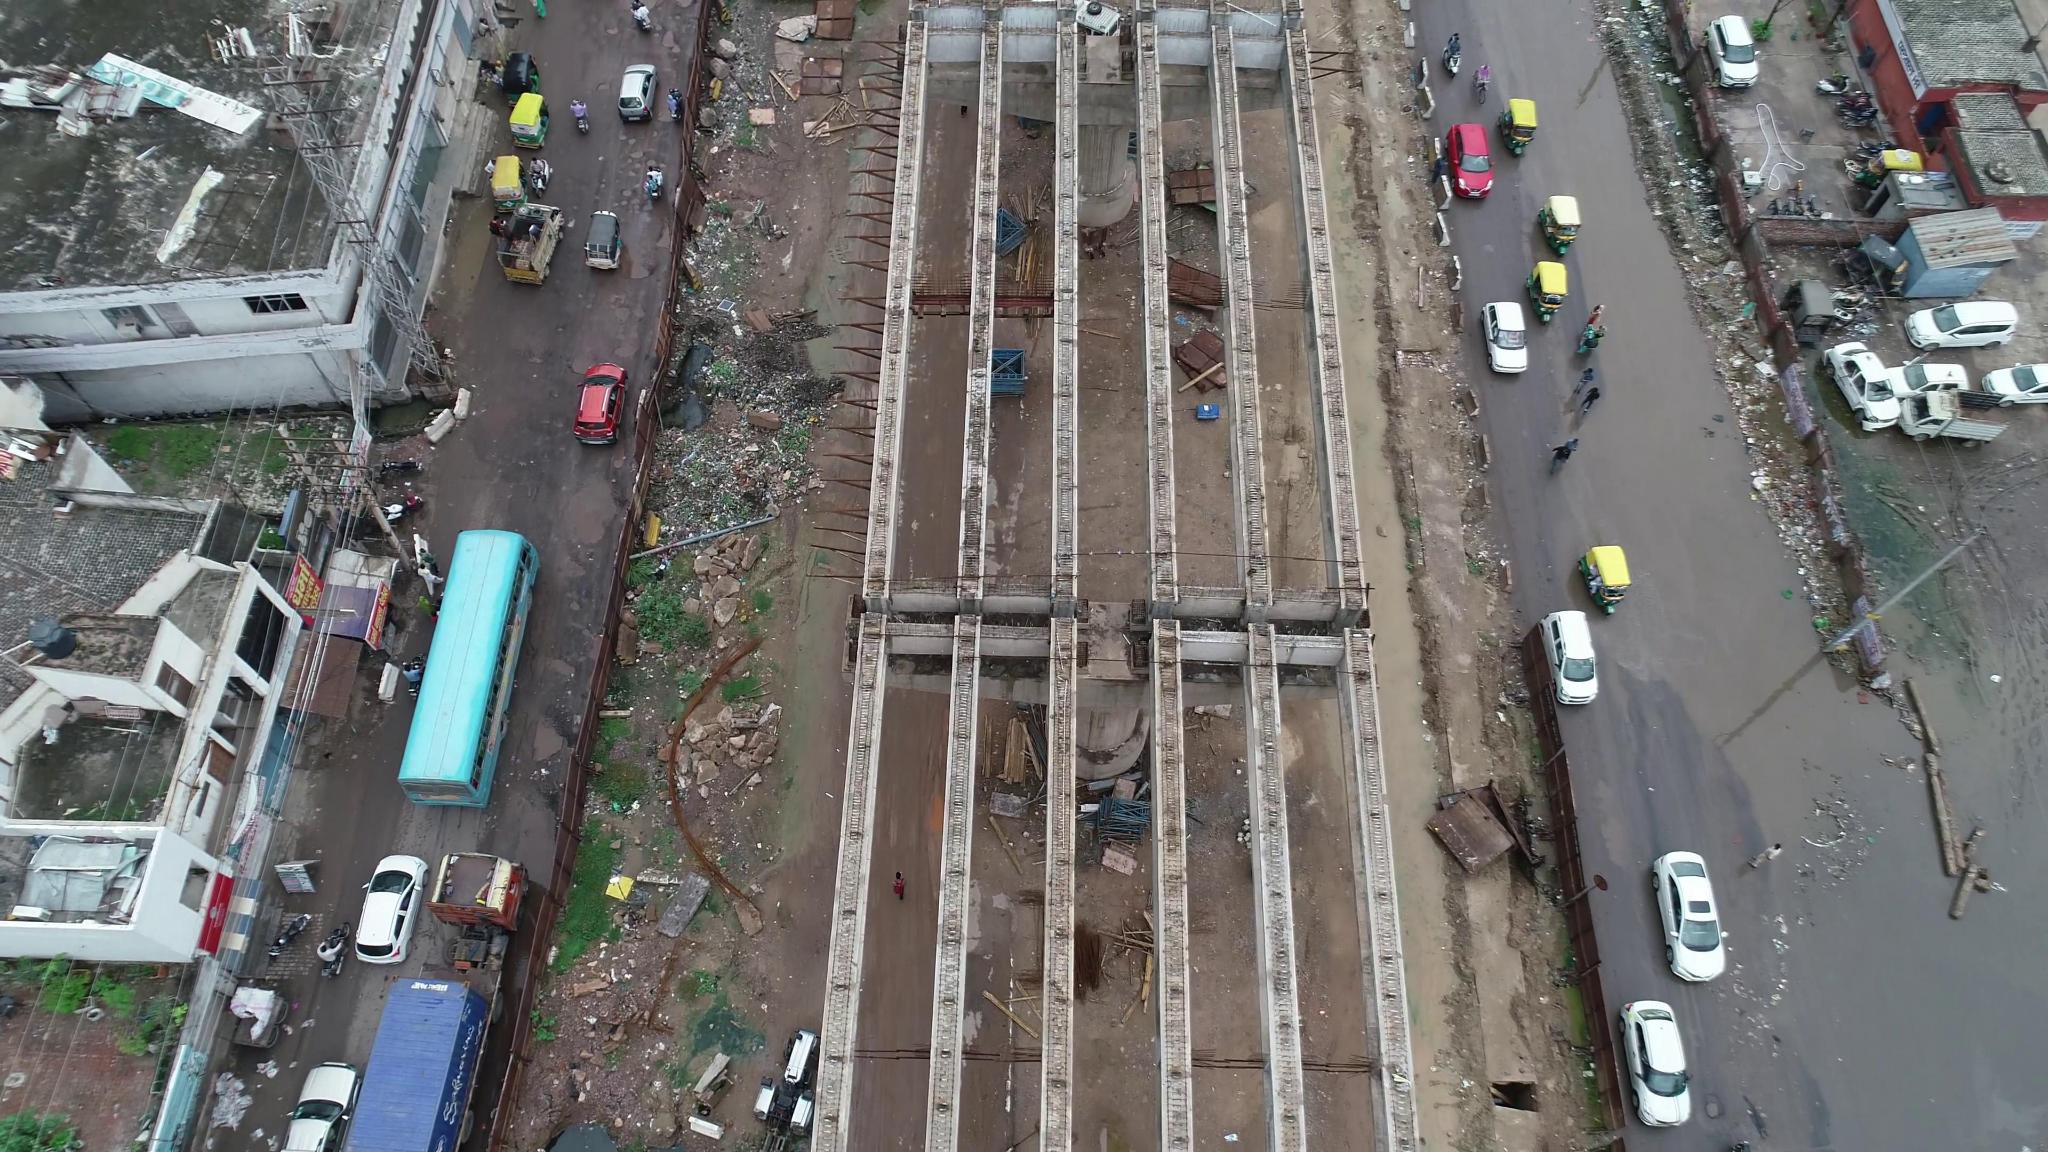Potholes: (608, 129, 664, 222), (589, 291, 647, 364), (550, 570, 596, 627), (587, 8, 630, 51), (658, 21, 693, 68), (580, 63, 617, 101)
Waterlogging: (1726, 693, 2011, 1084), (1596, 371, 1785, 675)
